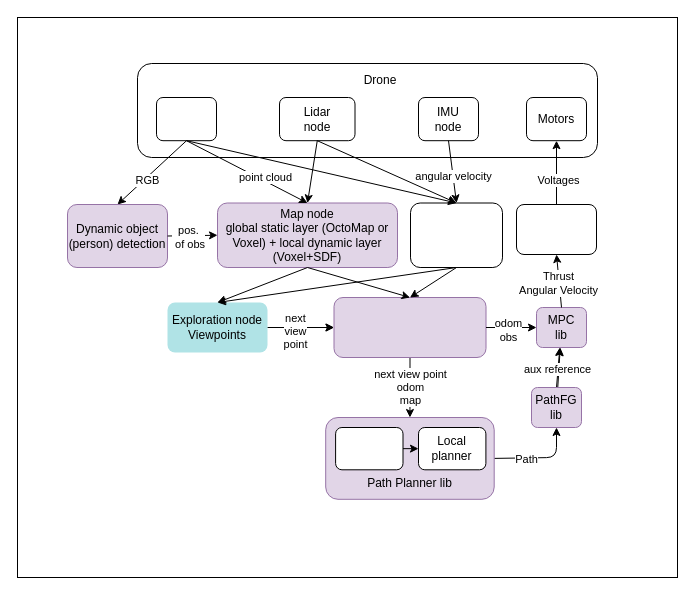
Image size: 695x595. Some labels were removed from this diagram. The centre of each missing label's shape, as x and y in pixels:
Controller Manager node Logic (viewpoint, landing...) Safety (odom loss...): the point at 409,327
Depth Camera node: the point at 186,118
Flight Controller node: the point at 556,229
Global planner: the point at 369,448
Localization node p, p_dot, orien: the point at 456,235
